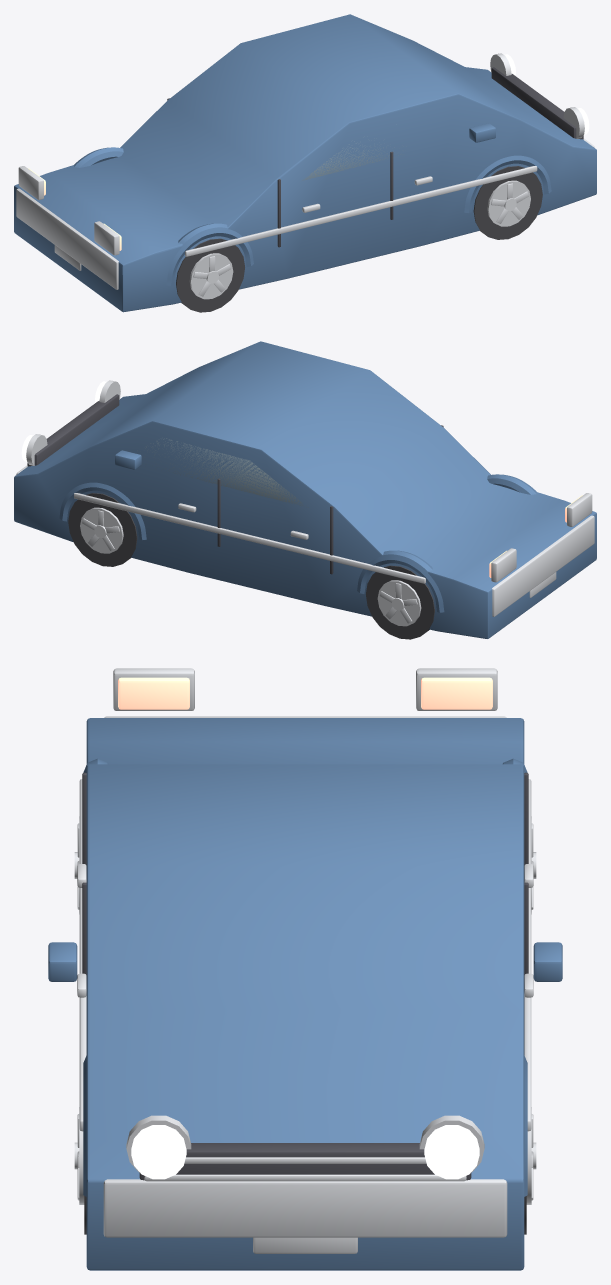
The model's file is th37_limousine.glb.
3 views of the same model, one above another, from view 1: azimuth 30°, elevation 25°; view 2: azimuth 150°, elevation 25°; view 3: azimuth 270°, elevation 25° (orthographic). The views are drawn at different scales.
Parts seen in each view (by area): view 1: Karosse, Cube.054, Cube.020, Cylinder.007, Cylinder, Cube.050, Radlauf, Cylinder.008, Cylinder.001, Radlauf.001, Seitenglas, Cube.057 (+4 smaller); view 2: Karosse, Cube.054, Seitenglas.001, Cube.045, Cylinder.021, Cylinder.014, Cube.050, Radlauf.002, Cylinder.024, Cylinder.017, Radlauf.003, Cube.059 (+4 smaller); view 3: Karosse, Cube.055, Cube.050, Cylinder.028, Cylinder.030, Cube.056, Cube.058, Cube.052, Cube.060, Cube.053, Cube.020, Cube.045 (+7 smaller).
Boxes of the visible parts, x1,y1,x2,y2 form: Karosse: [14, 14, 596, 312]; Cube.054: [16, 188, 118, 289]; Cube.020: [185, 166, 537, 256]; Cylinder.007: [473, 166, 542, 239]; Cylinder: [176, 238, 244, 312]; Cube.050: [491, 67, 583, 139]; Radlauf: [166, 223, 253, 285]; Cylinder.008: [487, 180, 530, 226]; Cylinder.001: [189, 253, 233, 299]; Radlauf.001: [464, 155, 551, 213]; Seitenglas: [302, 141, 400, 180]; Cube.057: [94, 221, 119, 255]; Karosse: [14, 341, 596, 638]; Cube.054: [492, 515, 594, 616]; Seitenglas.001: [137, 438, 308, 507]; Cube.045: [74, 493, 425, 583]; Cylinder.021: [68, 493, 137, 566]; Cylinder.014: [366, 565, 434, 639]; Cube.050: [27, 394, 119, 466]; Radlauf.002: [357, 550, 444, 612]; Cylinder.024: [80, 507, 123, 553]; Cylinder.017: [377, 580, 421, 626]; Radlauf.003: [59, 482, 146, 540]; Cube.059: [491, 548, 516, 582]; Karosse: [86, 718, 524, 1270]; Cube.055: [103, 1179, 507, 1237]; Cube.050: [139, 1143, 471, 1180]; Cylinder.028: [131, 1125, 186, 1179]; Cylinder.030: [424, 1125, 479, 1179]; Cube.056: [118, 677, 189, 709]; Cube.058: [421, 677, 492, 709]; Cube.052: [144, 1174, 466, 1181]; Cube.060: [253, 1237, 357, 1253]; Cube.053: [184, 1157, 426, 1163]; Cube.020: [79, 779, 86, 1131]; Cube.045: [524, 779, 531, 1131].
Size of the model in its own units: 4.61 by 1.44 by 2.14.
